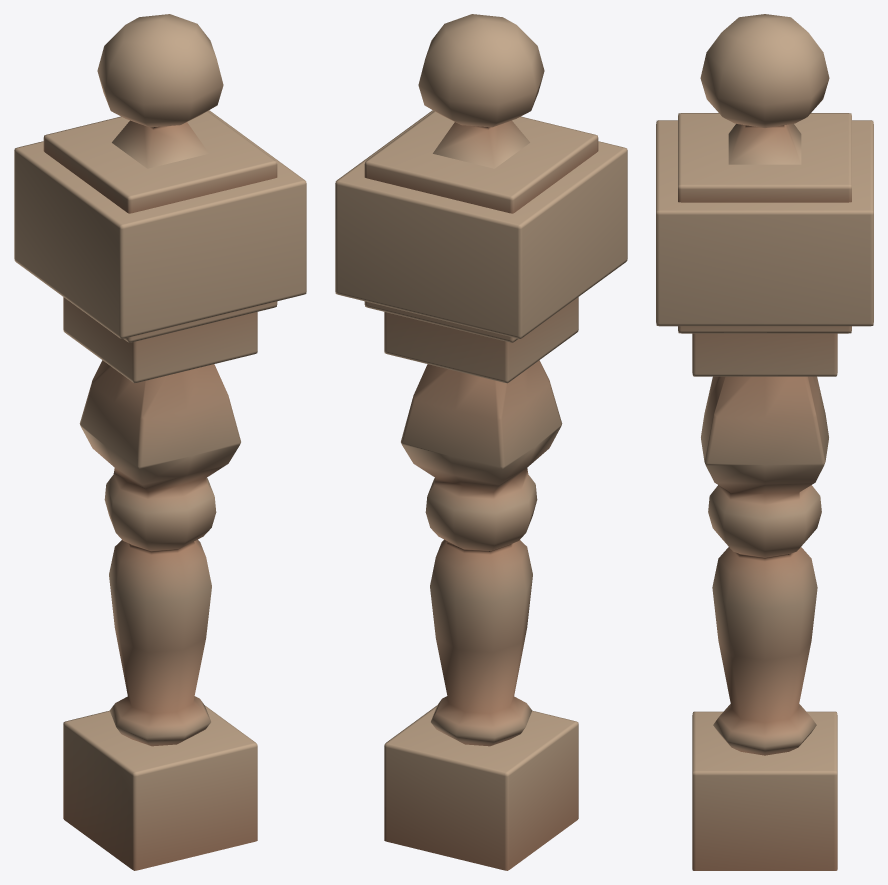
Rendered from Fence_endBeam_empty.fbx.
3 renders of one model, left to right at view 1: azimuth 30°, elevation 25°; view 2: azimuth 150°, elevation 25°; view 3: azimuth 270°, elevation 25°, orthographic.
Parts seen in each view (by area): view 1: Fence_edge; view 2: Fence_edge; view 3: Fence_edge.
Boxes of the visible parts, <box> form: Fence_edge: <box>14,14,306,870</box>; Fence_edge: <box>335,14,627,870</box>; Fence_edge: <box>656,14,873,870</box>.
Bounding box in the file's own units: 60 × 249 × 60.
